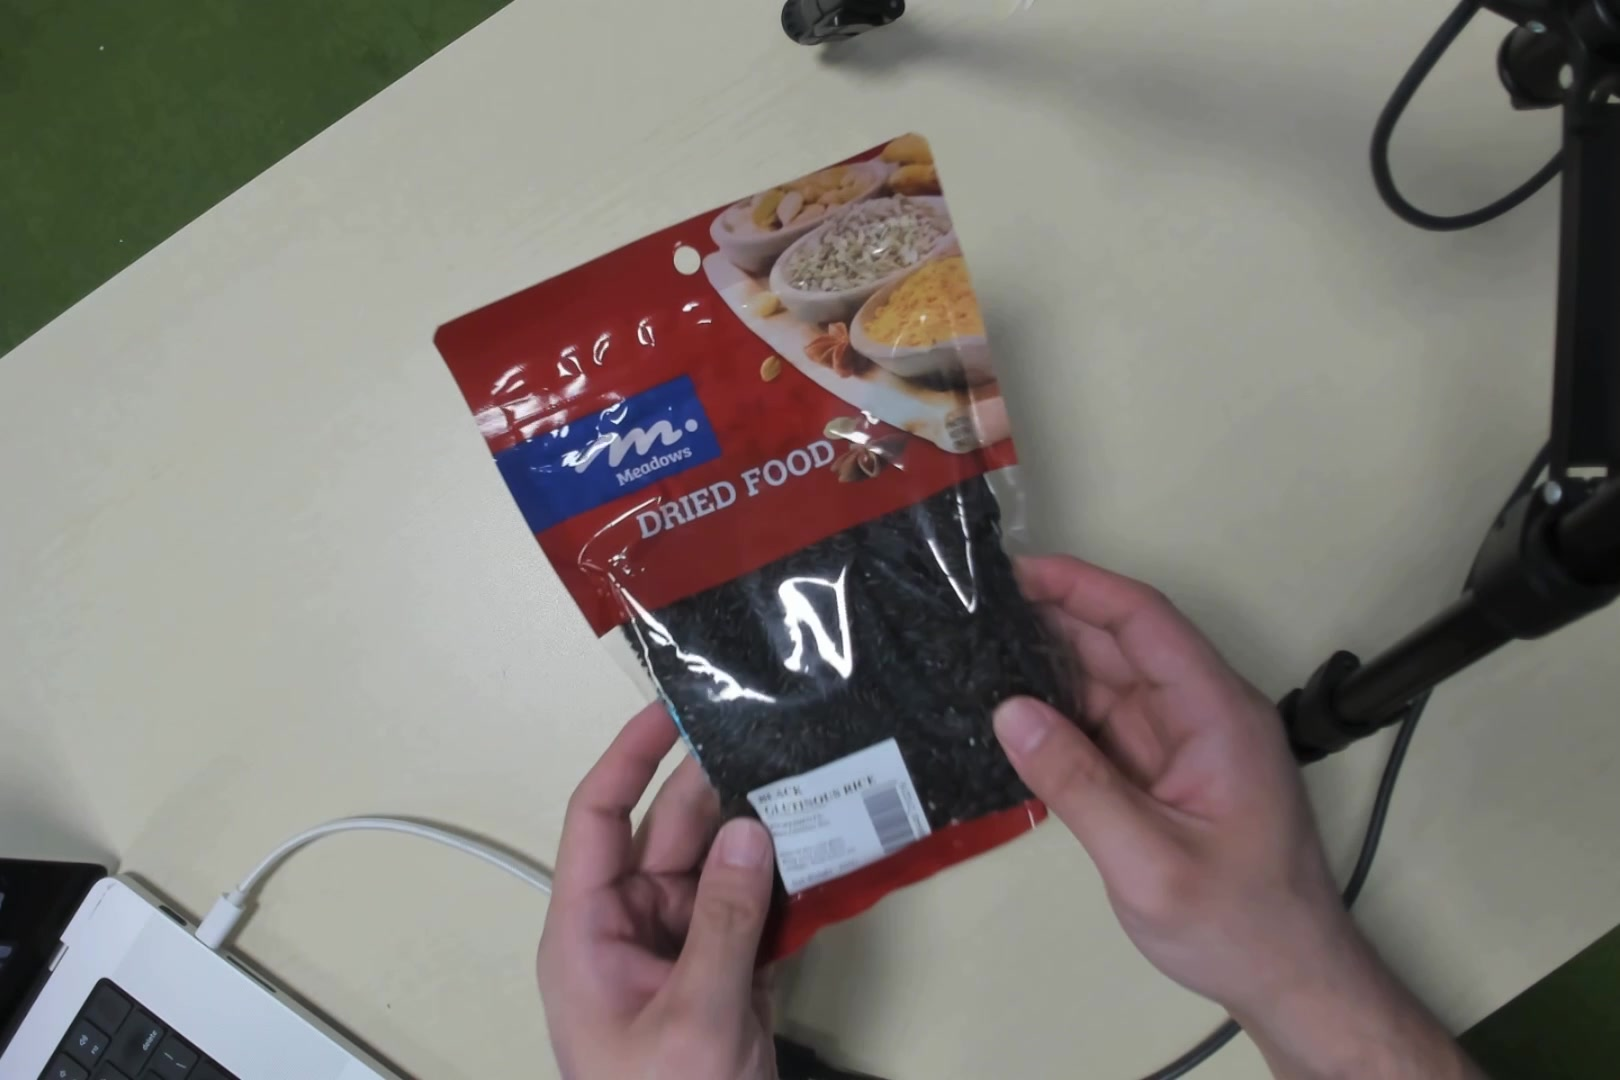OtherDriedFood_100-199g_NonHalal_NonHealthy: (545, 268, 1074, 920)
